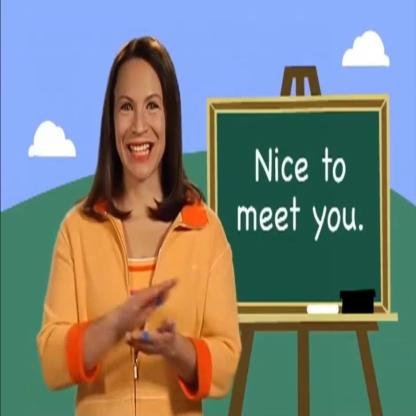NiceToMeetYou: (97, 263, 188, 378)
